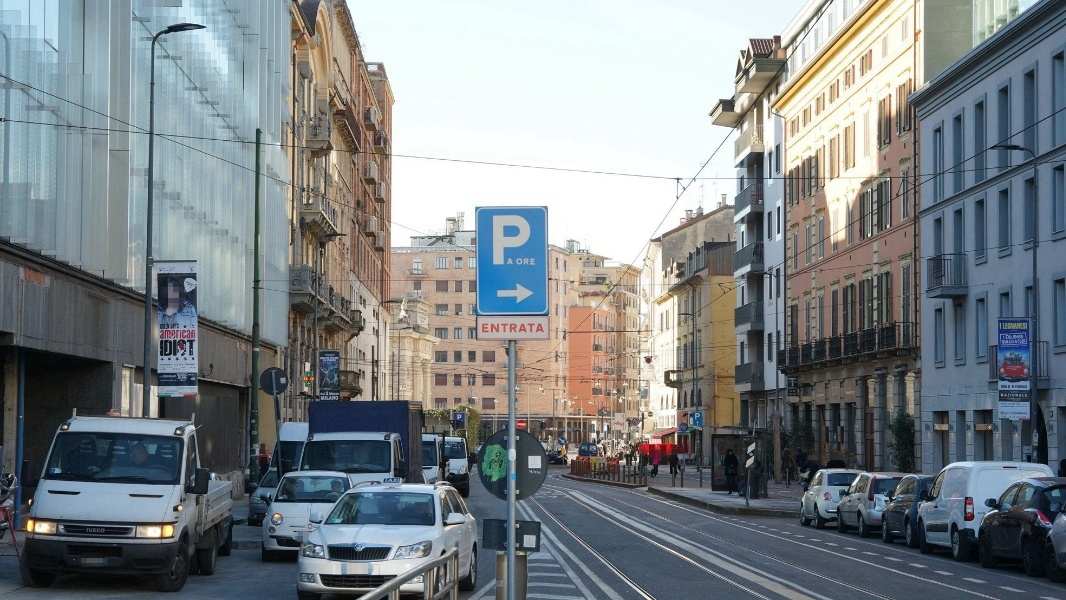text: (497, 215, 512, 265), (513, 215, 528, 265), (161, 363, 176, 393), (177, 363, 192, 393), (529, 215, 537, 265), (161, 339, 176, 356), (177, 339, 192, 356), (1009, 403, 1024, 418), (492, 215, 496, 265), (529, 323, 545, 333), (497, 323, 512, 333), (513, 323, 528, 333), (1009, 335, 1024, 345), (482, 323, 496, 333), (161, 330, 176, 339), (177, 330, 192, 339), (1009, 322, 1024, 330), (321, 354, 336, 362), (1000, 403, 1008, 418), (193, 363, 197, 393), (161, 323, 176, 329), (789, 387, 800, 395), (1000, 335, 1008, 345), (321, 396, 336, 401), (385, 479, 400, 484), (695, 413, 704, 421), (1000, 322, 1008, 330), (87, 527, 96, 534), (97, 527, 106, 534), (1009, 393, 1024, 397), (1025, 403, 1029, 418), (193, 339, 196, 356), (321, 392, 336, 395), (1009, 386, 1024, 389), (457, 415, 464, 421), (326, 391, 336, 395), (1000, 393, 1008, 397), (159, 363, 160, 393), (193, 330, 196, 339), (1025, 322, 1028, 330), (337, 354, 340, 362), (1000, 386, 1008, 389), (1025, 335, 1027, 345), (177, 323, 180, 329), (1025, 393, 1029, 397), (337, 396, 340, 401), (329, 393, 336, 395), (1025, 386, 1028, 389), (319, 354, 320, 362), (337, 393, 340, 395)
